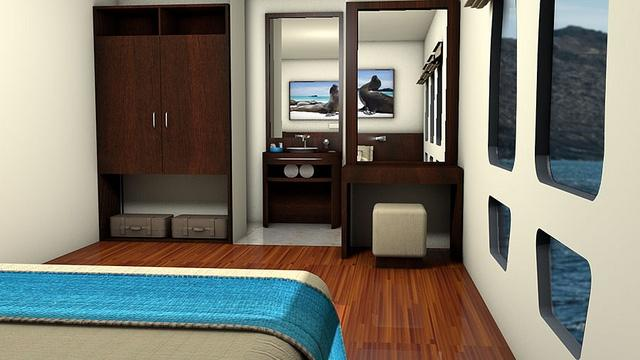Lemari: (91, 2, 231, 173)
